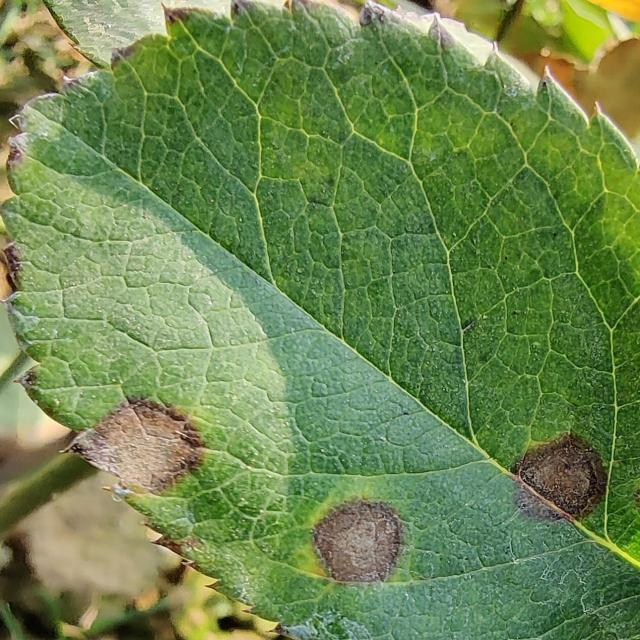Black_spot: (62, 392, 208, 497), (509, 428, 609, 525), (308, 495, 406, 587)
Rose: (1, 0, 638, 638)
